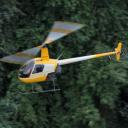helicopter: (2, 22, 128, 96)
